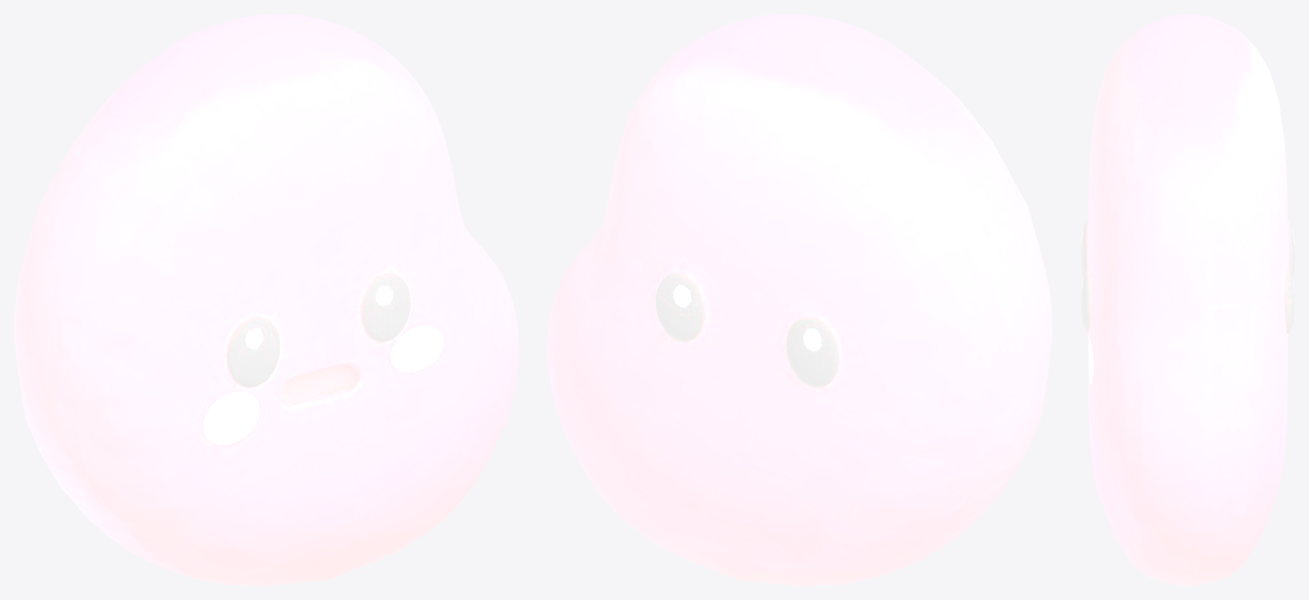
Rendered from Meshy_AI_Crimson_Bean_0811174225_texture.glb.
The picture shows the model from 3 angles, left to right: view 1: azimuth 30°, elevation 25°; view 2: azimuth 150°, elevation 25°; view 3: azimuth 270°, elevation 25°; orthographic projection. The views are drawn at different scales.
Parts seen in each view (by area): view 1: mesh_node; view 2: mesh_node; view 3: mesh_node.
Boxes of the visible parts, x1,y1,x2,y2 form: mesh_node: (14, 14, 518, 585); mesh_node: (547, 14, 1052, 585); mesh_node: (1081, 14, 1294, 585).
Size of the model in its own units: 1.72 by 1.9 by 0.7289.
Materials: 1 (1 with a texture image).
